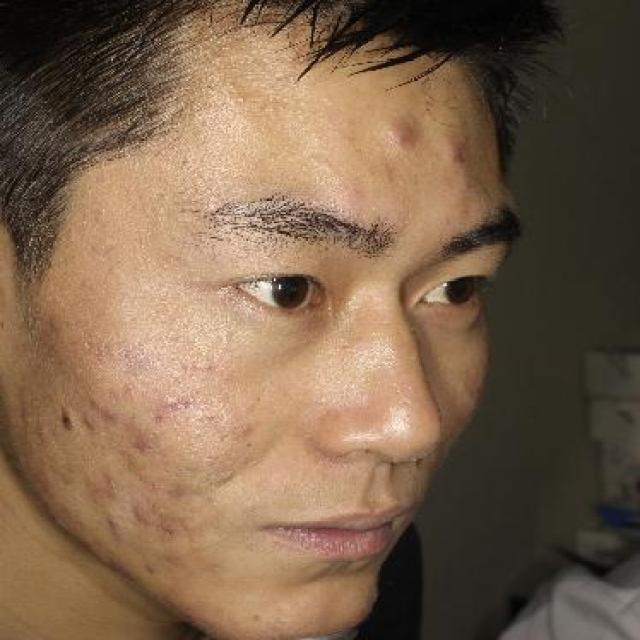nodules: (378, 105, 424, 162)
papules: (51, 396, 77, 436), (126, 499, 150, 523), (75, 414, 108, 431), (103, 402, 123, 423)
